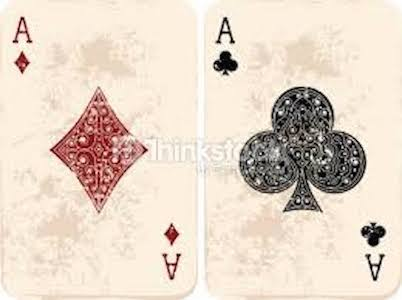AceOfClubs: (202, 1, 399, 298)
AceOfDiamonds: (1, 1, 201, 299)
